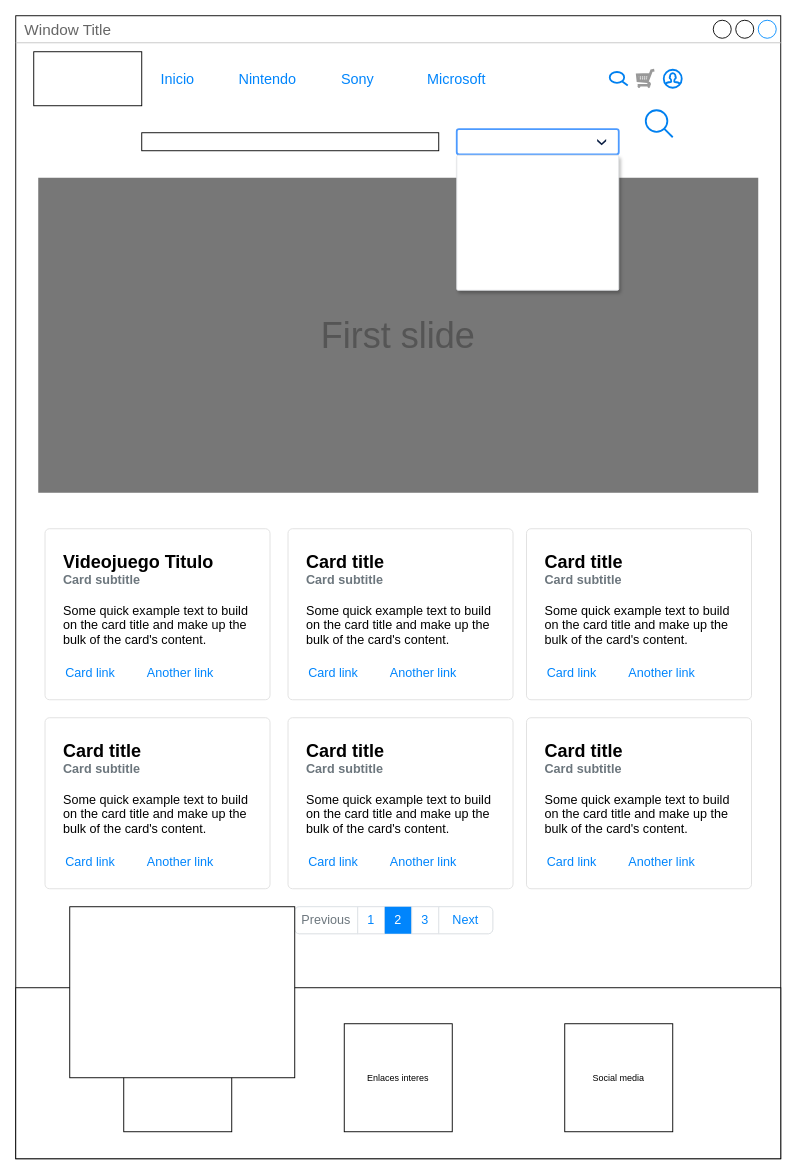
The diagram is 797 pixels wide and 1175 high, and some of its shapes have lost their labels. The centre of each missing label's shape, as x and y in pixels:
Consola: point 537,141
Consola PS5 Xbox series x Nintendo Switch: point 538,224
Cookies: point 182,992
Logo: point 87,78
Placeholder: point 290,141
